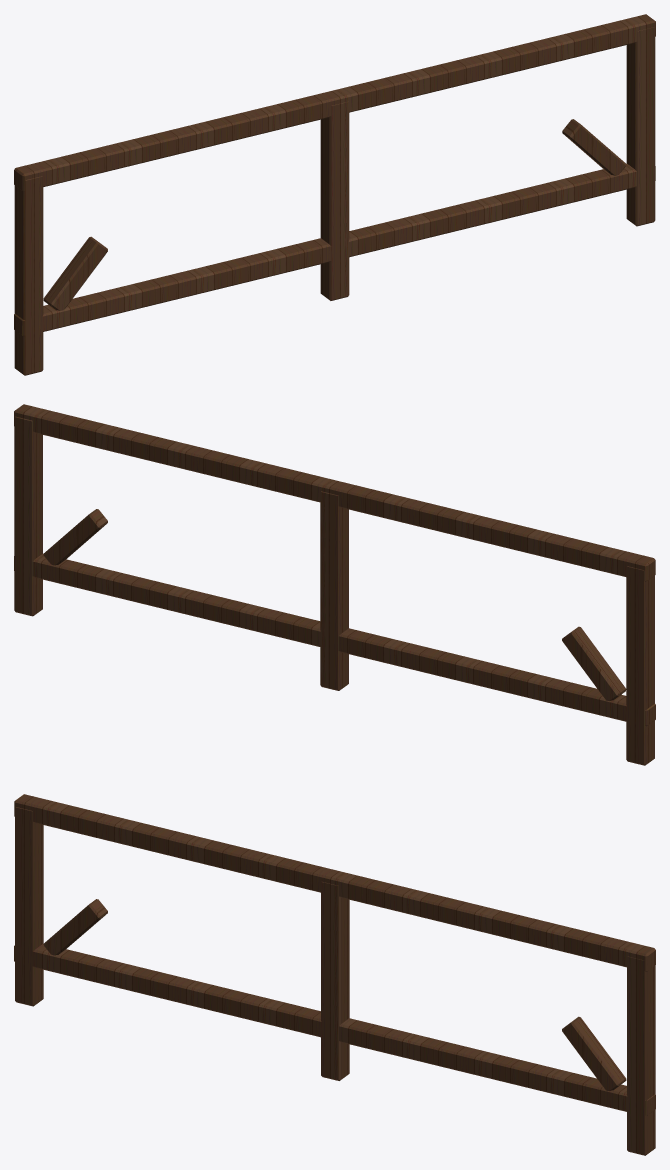
The model's file is SM_HH_Q3_Timber_CameraSide.fbx.
3 renders of one model, top to bottom at view 1: azimuth 30°, elevation 25°; view 2: azimuth 150°, elevation 25°; view 3: azimuth 330°, elevation 25°, orthographic.
Parts seen in each view (by area): view 1: HH_Q3_Timber_CameraSide; view 2: HH_Q3_Timber_CameraSide; view 3: HH_Q3_Timber_CameraSide.
Boxes of the visible parts, x1,y1,x2,y2 form: HH_Q3_Timber_CameraSide: (14, 14, 655, 375); HH_Q3_Timber_CameraSide: (14, 404, 655, 765); HH_Q3_Timber_CameraSide: (14, 794, 655, 1155).
Bounding box in the file's own units: 0.2509 × 8.8 × 2.68.
